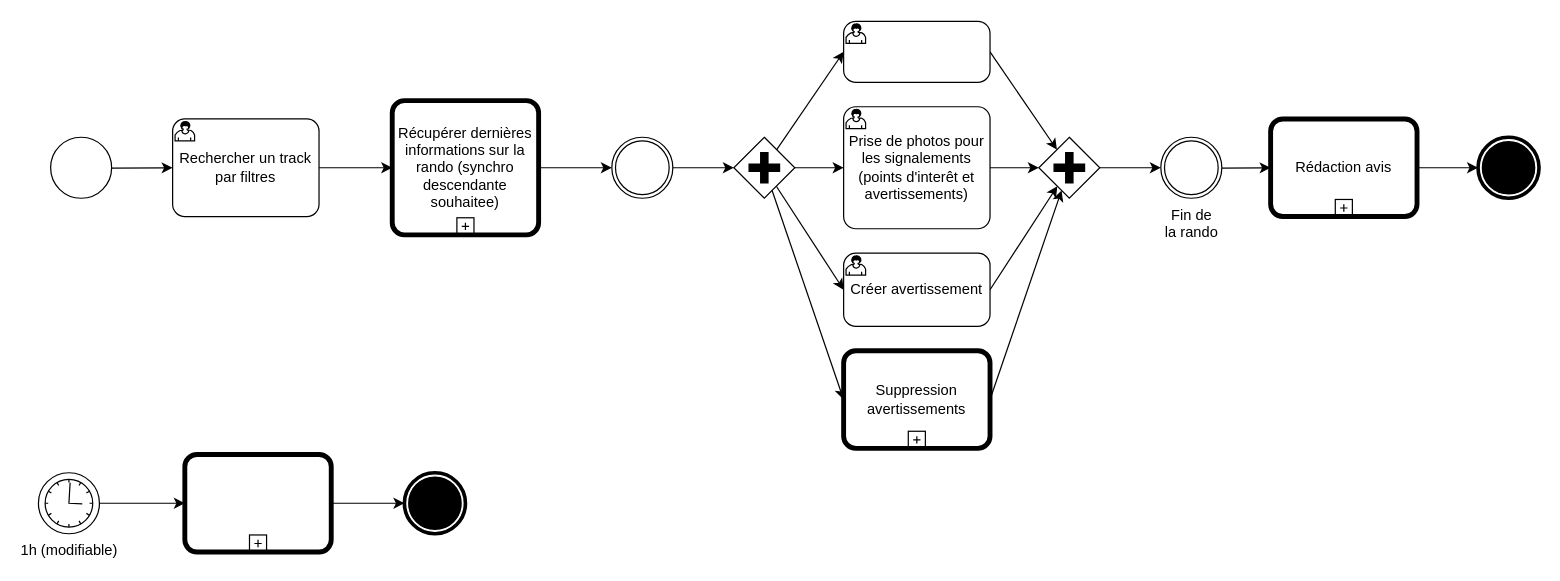
Some shapes in this 1560 by 581 pixel diagram are drawn without their labels. Each missing label, with the centre of its shape:
Debut de la rando: [642,167]
Envie de faire une randonnée: [80,167]
récupération informations des tracks (Synchro descendante): [257,502]
Suivi du track: [916,51]
